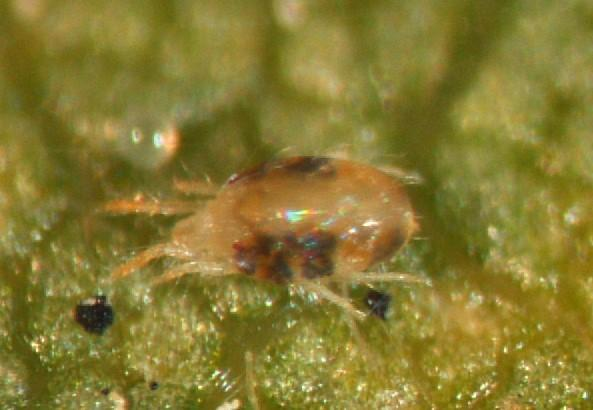Mites: (113, 132, 443, 310)
